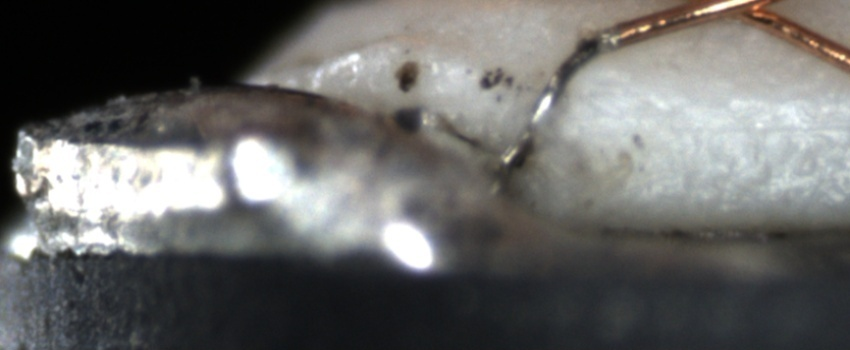CL: (693, 0, 799, 31)
DL: (630, 86, 849, 150)
TS: (492, 26, 620, 190)
TTCW: (489, 10, 662, 201)
